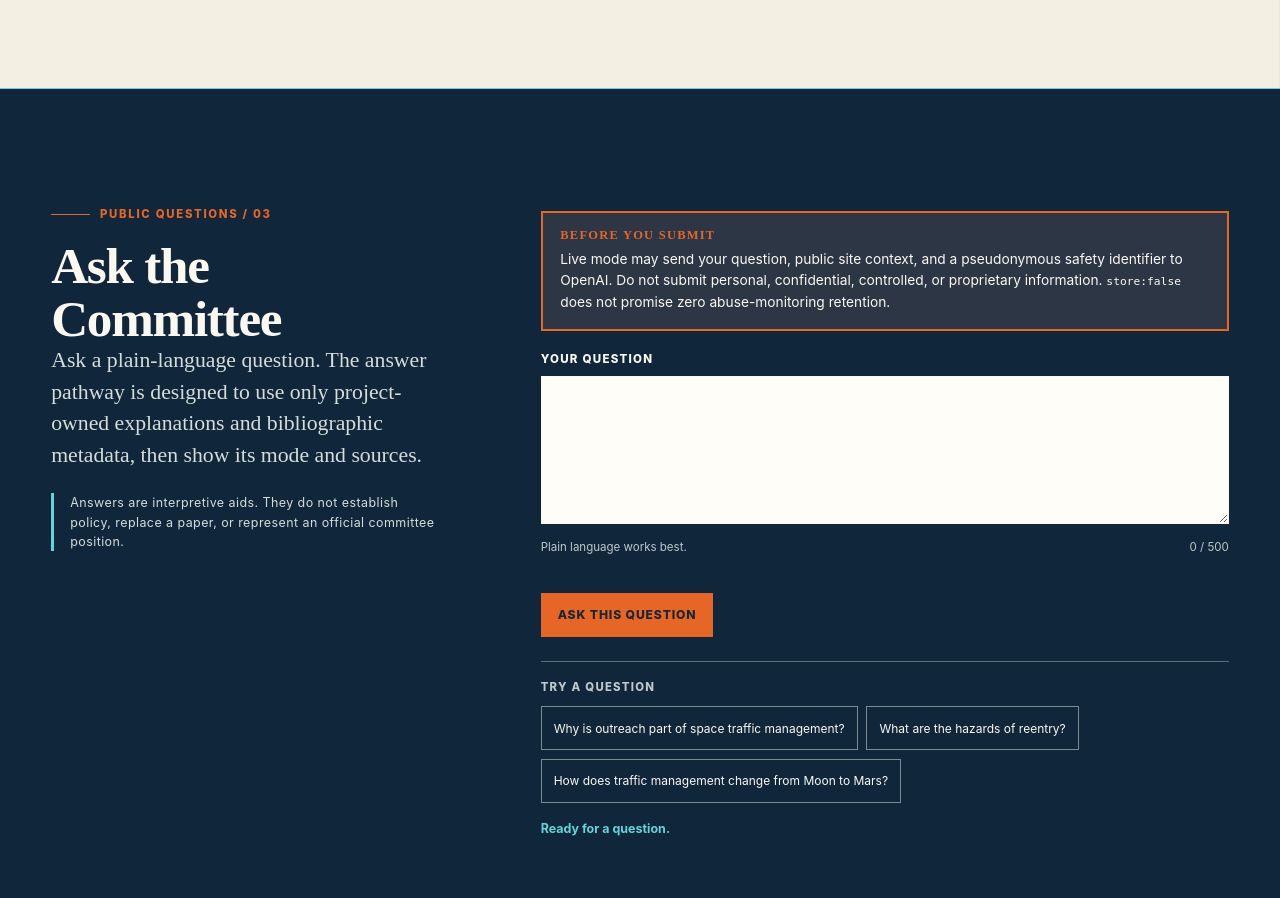
Scenario: editorial application › rejects a successful response containing a whitespace-only answer
(page scrolled)
Type "Show me the trusted public sources." into the text box labelled "Your question".
click(885, 450); type("Show me the trusted public sources.")  # box [541,376,1229,524]
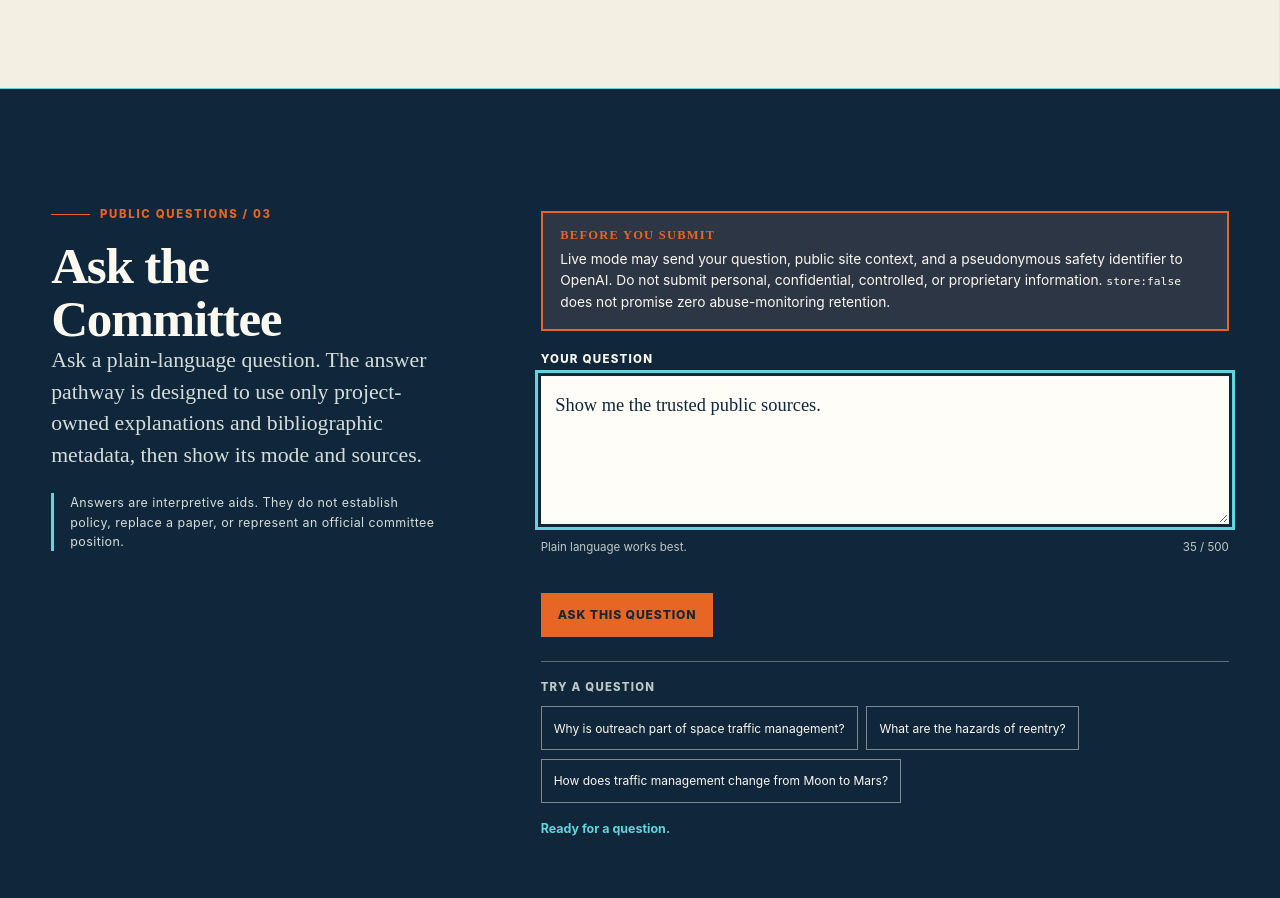
Click the button "Ask this question".
click(627, 615)  # box [541,593,714,637]
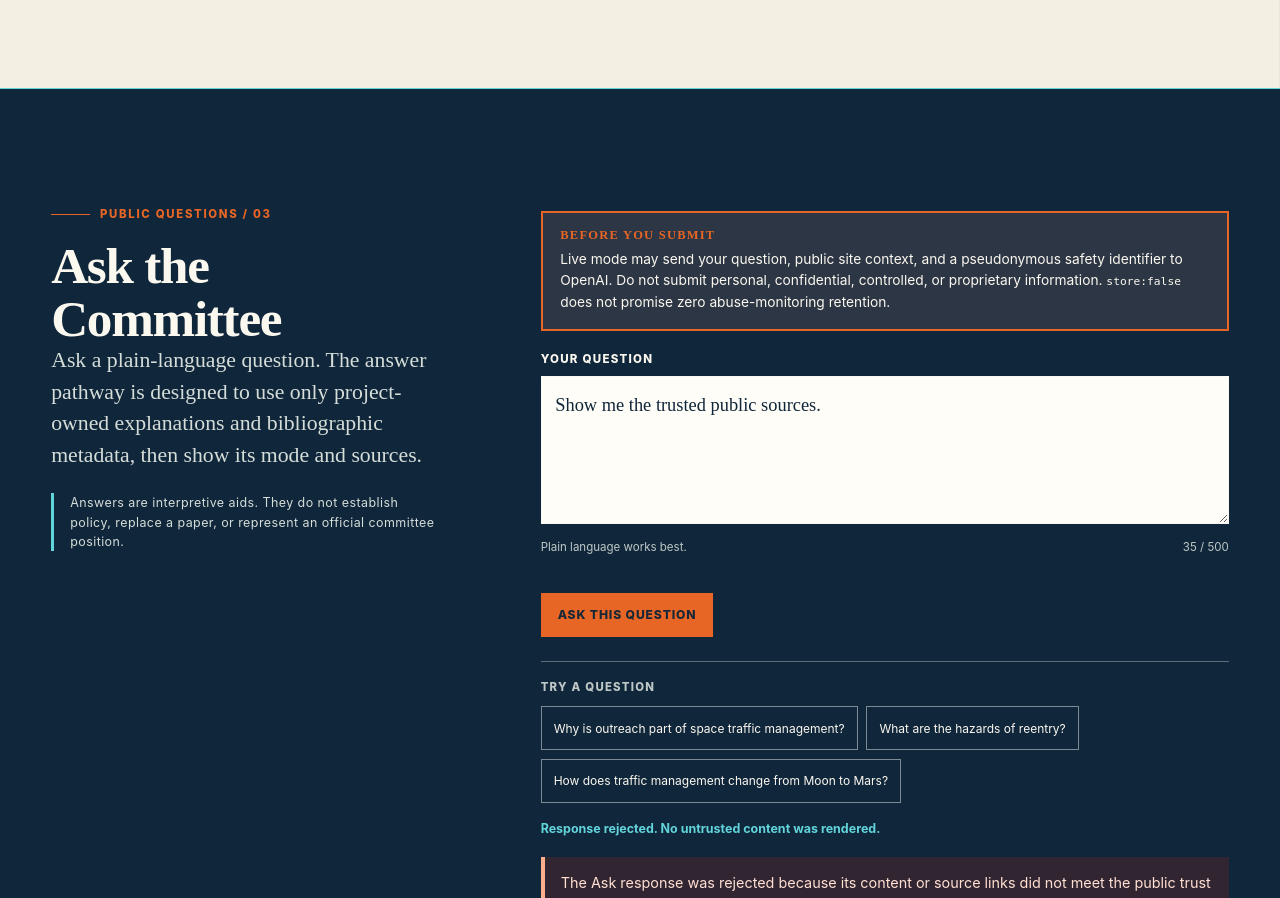
Expected: the text box labelled "Your question" is enabled, [541,376,1229,524]
Expected: the message shows "Response rejected", [541,821,880,836]
